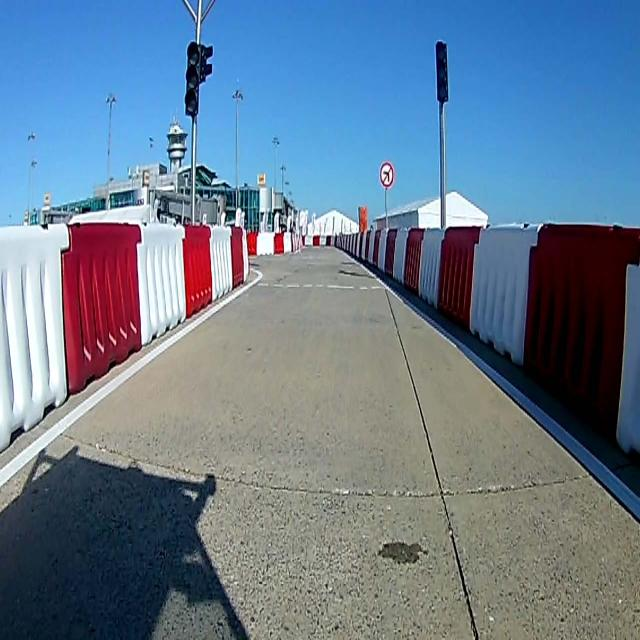soladonulmez: (380, 163, 394, 188)
